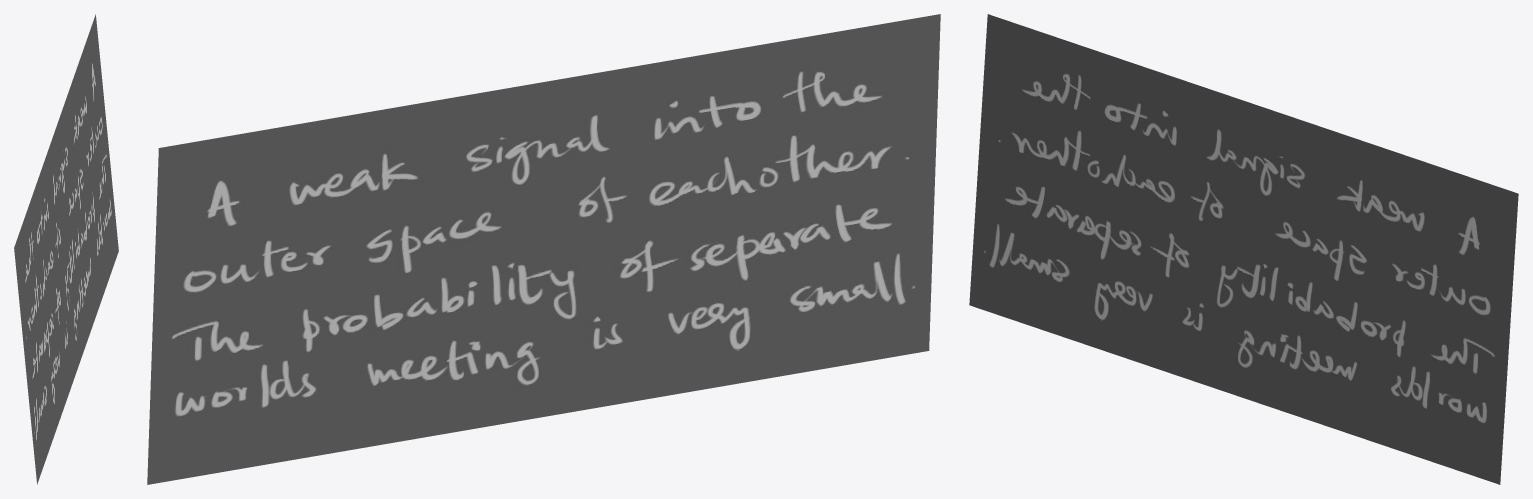
3 renders of one model, left to right at view 1: azimuth 30°, elevation 25°; view 2: azimuth 150°, elevation 25°; view 3: azimuth 270°, elevation 25°, orthographic. The views are drawn at different scales.
Visible parts, largest first — view 1: Plane.011; view 2: Plane.011; view 3: Plane.011.
Boxes of the visible parts, left/top/right/bottom form: Plane.011: left=14, top=14, right=118, bottom=484; Plane.011: left=147, top=14, right=940, bottom=484; Plane.011: left=969, top=14, right=1518, bottom=484.
Bounding box in the file's own units: 1.71 × 1.21 × 2.12.
Materials: 1 (1 with a texture image).
